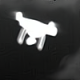plane: (10, 10, 60, 51)
